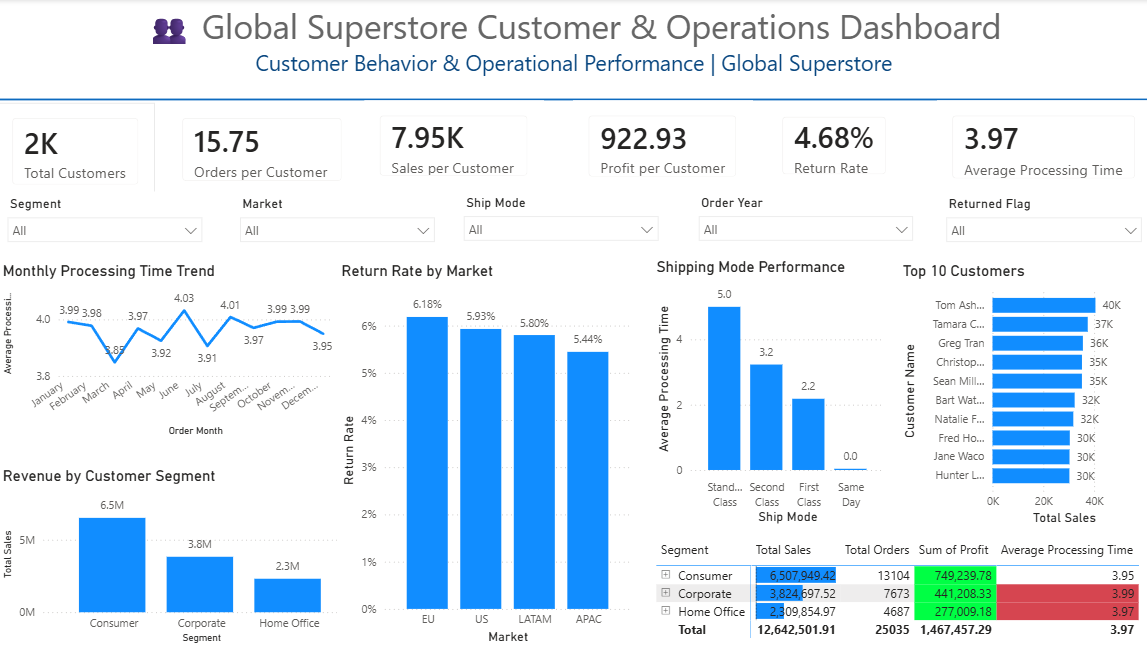

The page's visual inventory and layout, read from the dashboard file:
{"tool":"powerbi","page":{"name":"Customer Dashboard","canvas":[1280,720],"ordinal":2},"visuals":[{"type":"textbox","box":[0,0,1280.3,112.4],"z":0},{"type":"shape","box":[0,97.4,1280.3,28.8],"z":1},{"type":"cardVisual","fields":{"Data":["Orders.Total Customers"]},"box":[0,115.3,174.3,108.4],"z":2},{"type":"cardVisual","fields":{"Data":["Orders.Orders per Customer"]},"box":[188,115.3,211.3,104.3],"z":3},{"type":"cardVisual","fields":{"Data":["Orders.Sales per Customer"]},"box":[407.5,112.5,199,101.5],"z":4},{"type":"cardVisual","fields":{"Data":["Orders.Profit per Customer"]},"box":[639.5,112.5,199,102.9],"z":5},{"type":"cardVisual","fields":{"Data":["Orders.Return Rate"]},"box":[854.9,113.9,149.6,98.8],"z":6},{"type":"cardVisual","fields":{"Data":["Orders.Average Processing Time"]},"box":[1042.9,112.5,237.4,104.3],"z":7},{"type":"clusteredColumnChart","title":"Revenue by Customer Segment","fields":{"Category":["Orders.Segment"],"Y":["Orders.Total Sales"]},"box":[1.4,518.7,406.2,201.7],"z":8},{"type":"clusteredBarChart","title":"Top 10 Customers","fields":{"Category":["Orders.Customer Name"],"Y":["Orders.Total Sales"]},"box":[1000.3,290.9,279.9,297.8],"z":9},{"type":"clusteredColumnChart","title":"Shipping Mode Performance","fields":{"Category":["Orders.Ship Mode"],"Y":["Orders.Average Processing Time"]},"box":[727.3,286.8,263.5,300.5],"z":10},{"type":"columnChart","title":"Return Rate by Market","fields":{"Category":["Orders.Market"],"Y":["Orders.Return Rate"]},"box":[377.4,290.9,332.1,429.5],"z":11},{"type":"lineChart","title":"Monthly Processing Time Trend","fields":{"Category":["Orders.Order Month"],"Y":["Orders.Average Processing Time"]},"box":[1.4,290.9,376,199],"z":12},{"type":"pivotTable","fields":{"Rows":["Orders.Segment","Orders.Customer Name"],"Values":["Orders.Total Sales","Orders.Total Orders","Sum(Orders.Profit)","Orders.Average Processing Time"]},"box":[727.3,595.5,550.3,124.9],"z":13},{"type":"slicer","fields":{"Values":["Orders.Segment"]},"box":[1.4,214.1,236,76.8],"z":14},{"type":"slicer","fields":{"Values":["Orders.Market"]},"box":[259.3,214.1,236,76.8],"z":15},{"type":"slicer","fields":{"Values":["Orders.Ship Mode"]},"box":[507.7,212.7,236,76.8],"z":16},{"type":"slicer","fields":{"Values":["Orders.Order Year"]},"box":[768.4,212.7,258,74.1],"z":17},{"type":"slicer","fields":{"Values":["Orders.Returned Flag"]},"box":[1042.9,214.1,237.4,76.8],"z":18}]}

Visuals, with their boxes in screenshot pixels (x1, y1, x2, y2), scaled from the page's 1280x720 canvas onto the 1147x645 screenshot:
textbox: 0:0:1146:101
shape: 0:87:1146:113
cardVisual - Orders.Total Customers: 0:103:156:200
cardVisual - Orders.Orders per Customer: 168:103:358:197
cardVisual - Orders.Sales per Customer: 365:101:543:192
cardVisual - Orders.Profit per Customer: 573:101:751:193
cardVisual - Orders.Return Rate: 766:102:900:191
cardVisual - Orders.Average Processing Time: 935:101:1146:194
"Revenue by Customer Segment" clusteredColumnChart: 1:465:365:644
"Top 10 Customers" clusteredBarChart: 896:261:1146:527
"Shipping Mode Performance" clusteredColumnChart: 652:257:888:526
"Return Rate by Market" columnChart: 338:261:636:644
"Monthly Processing Time Trend" lineChart: 1:261:338:439
pivotTable - Orders.Segment x Orders.Customer Name: 652:533:1145:644
slicer - Orders.Segment: 1:192:213:261
slicer - Orders.Market: 232:192:444:261
slicer - Orders.Ship Mode: 455:191:666:259
slicer - Orders.Order Year: 689:191:920:257
slicer - Orders.Returned Flag: 935:192:1146:261
